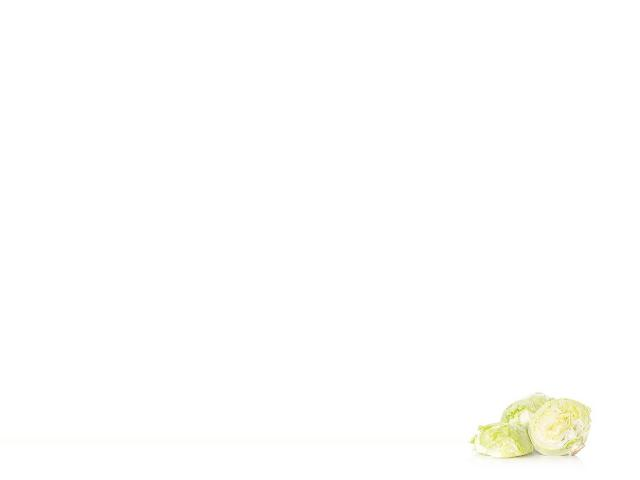lettuce: (494, 390, 560, 433)
